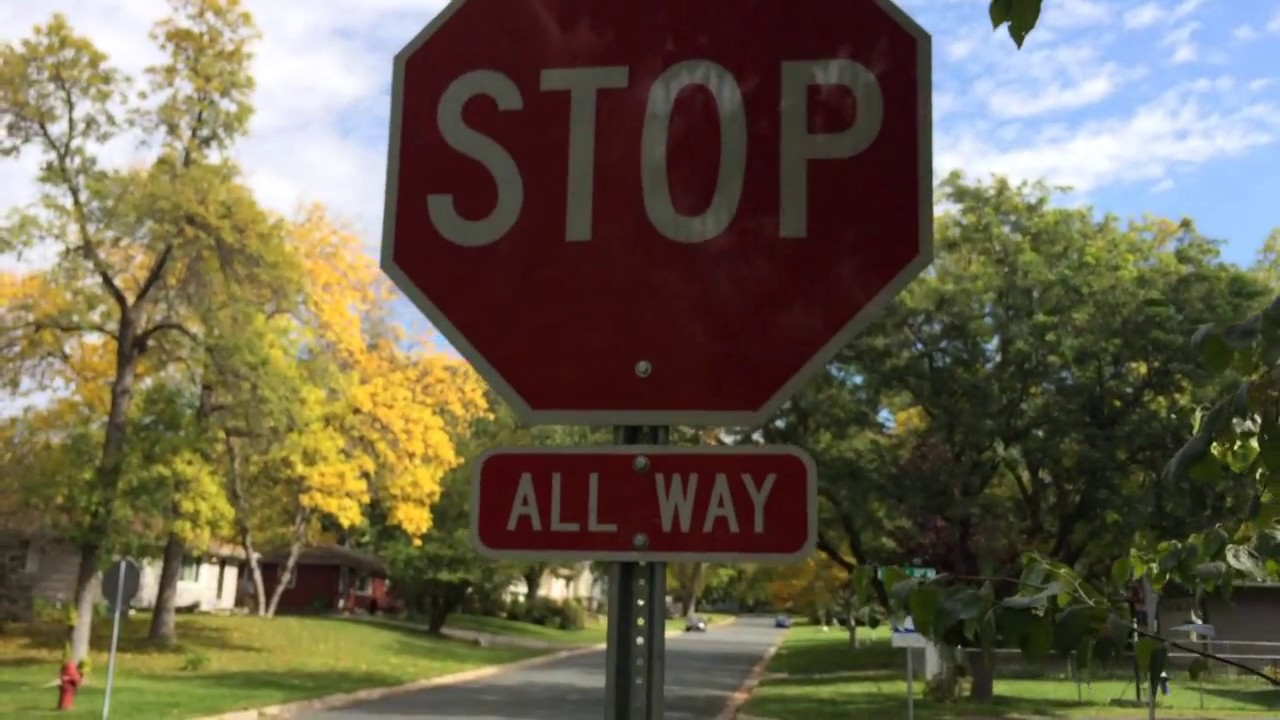stop: (389, 1, 937, 425), (391, 1, 938, 425), (385, 1, 940, 367), (375, 14, 943, 368), (389, 70, 782, 426)
